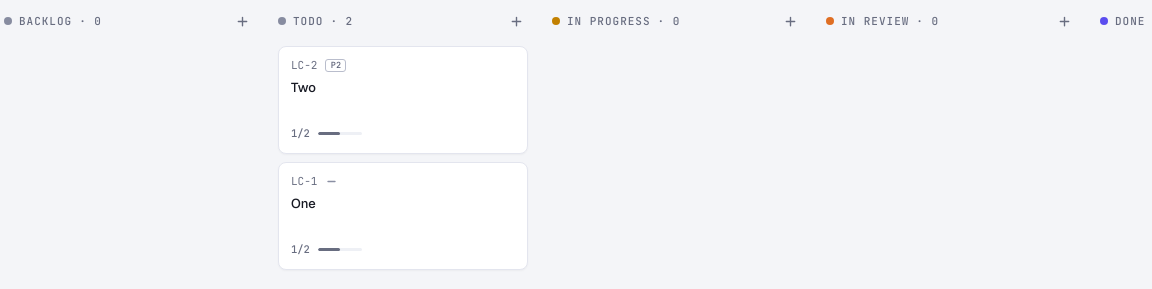
Test: the context menu on a card (LC-222) › opens on the card that was pressed, holding that card's values
This screenshot has width=1152, height=289.
Right-click the button "LC-2 P2 Two 1/2" at (403, 100), box [278,46,528,154]
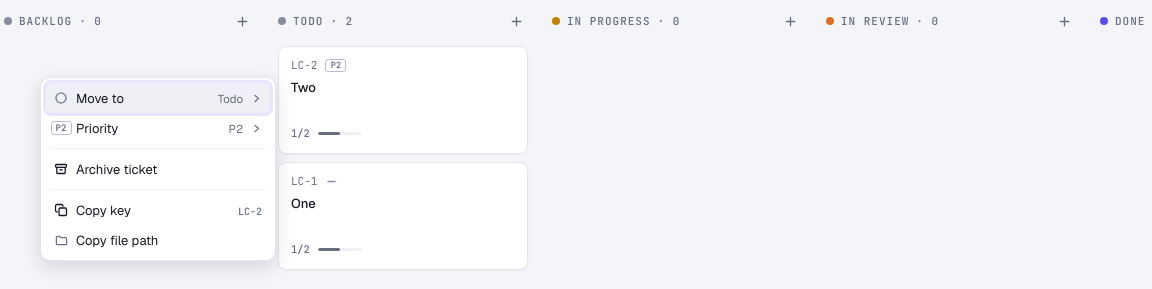
Check: the menu named "LC-2 actions" is shown, box [40,77,276,261]
Check: the menu item "P2 Priority P2" is shown, box [46,113,270,143]
